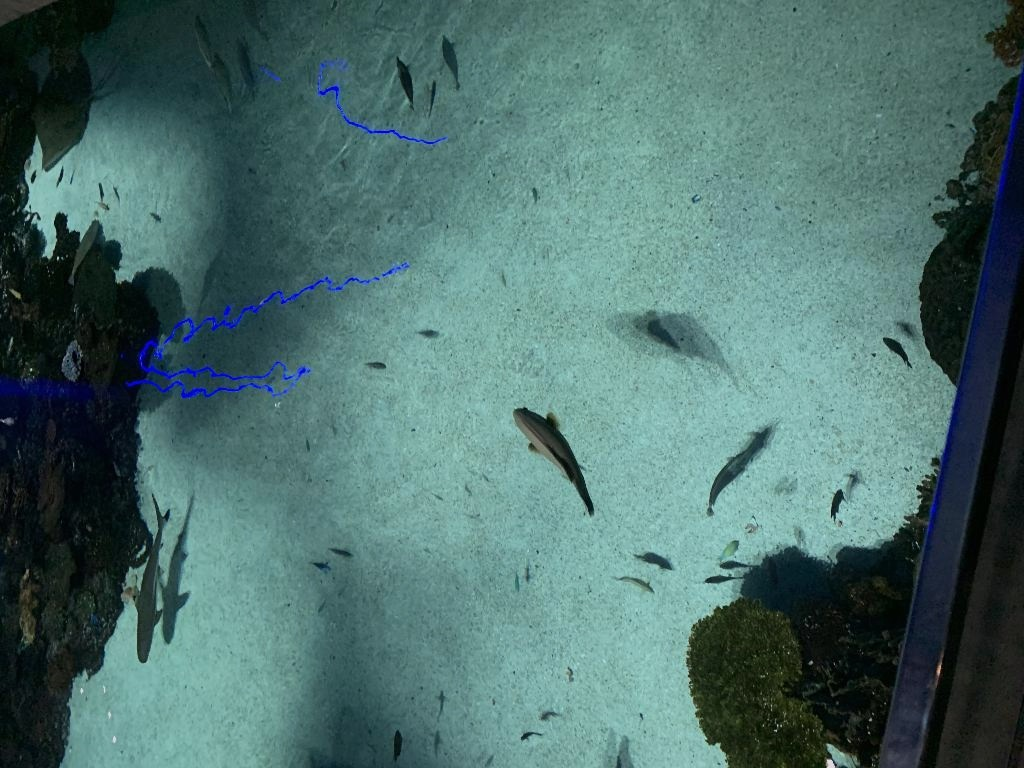fish: (508, 401, 600, 520), (702, 450, 754, 520), (393, 54, 421, 114), (189, 15, 217, 72), (234, 38, 258, 104), (211, 51, 235, 115), (880, 335, 914, 373), (610, 572, 658, 598), (386, 724, 408, 768), (712, 538, 742, 566), (646, 318, 676, 346), (444, 38, 460, 88), (828, 487, 848, 525), (306, 556, 334, 576), (702, 574, 744, 586), (52, 163, 66, 191), (362, 360, 390, 374), (526, 186, 540, 206), (90, 198, 110, 212), (148, 211, 164, 225), (28, 168, 40, 186)
shark: (130, 492, 170, 664)
